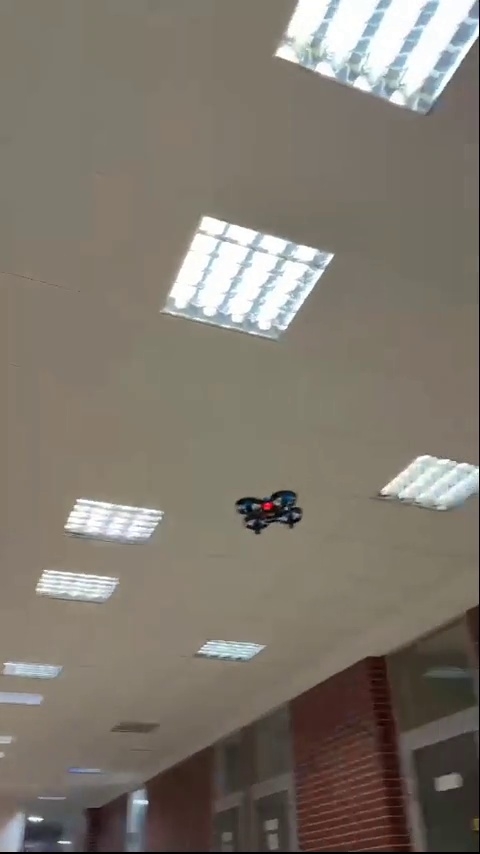drone: (236, 488, 306, 533)
